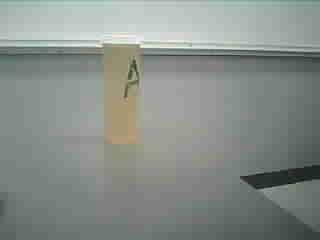Bottle A: (97, 30, 146, 150)
